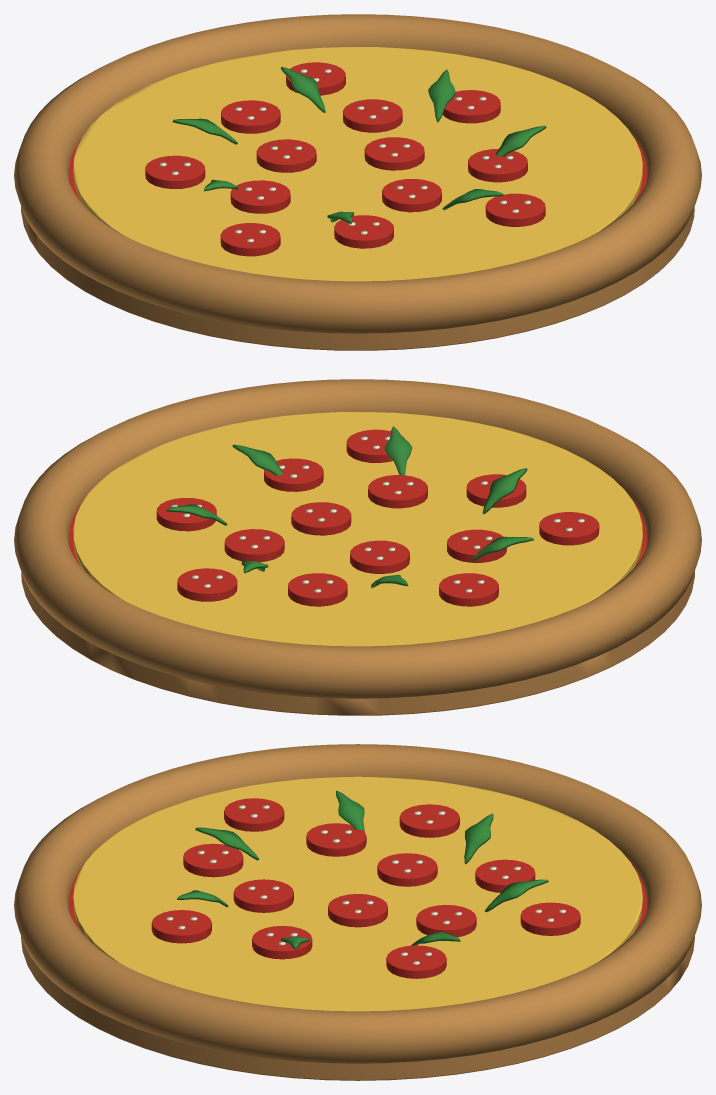
The model's file is universal-pizza.glb.
3 views of the same model, one above another, from view 1: azimuth 30°, elevation 25°; view 2: azimuth 150°, elevation 25°; view 3: azimuth 270°, elevation 25° (orthographic).
Parts seen in each view (by area): view 1: Melted cheese layer, Raised original pizza crust, Pizza bread base, Round pizza topping.010, Round pizza topping.001, Round pizza topping.009, Round pizza topping, Round pizza topping.012, Round pizza topping.003, Round pizza topping.006, Round pizza topping.002, Round pizza topping.004 (+8 smaller); view 2: Melted cheese layer, Raised original pizza crust, Pizza bread base, Round pizza topping.011, Round pizza topping, Round pizza topping.012, Round pizza topping.001, Round pizza topping.002, Round pizza topping.009, Round pizza topping.006, Round pizza topping.003, Round pizza topping.005 (+8 smaller); view 3: Melted cheese layer, Raised original pizza crust, Pizza bread base, Round pizza topping.002, Round pizza topping.008, Round pizza topping.011, Round pizza topping.012, Round pizza topping.009, Round pizza topping.001, Round pizza topping.010, Round pizza topping.007, Round pizza topping (+8 smaller).
Part boxes in pixels (bbox=[...]): Melted cheese layer: bbox=[73, 47, 642, 281]; Raised original pizza crust: bbox=[14, 14, 701, 333]; Pizza bread base: bbox=[21, 206, 694, 350]; Round pizza topping.010: bbox=[485, 193, 545, 226]; Round pizza topping.001: bbox=[256, 139, 316, 172]; Round pizza topping.009: bbox=[145, 155, 205, 188]; Round pizza topping: bbox=[364, 137, 424, 170]; Round pizza topping.012: bbox=[220, 223, 280, 256]; Round pizza topping.003: bbox=[343, 99, 402, 132]; Round pizza topping.006: bbox=[221, 100, 280, 133]; Round pizza topping.002: bbox=[382, 179, 441, 212]; Round pizza topping.004: bbox=[230, 180, 290, 213]; Melted cheese layer: bbox=[73, 412, 642, 646]; Raised original pizza crust: bbox=[14, 379, 701, 698]; Pizza bread base: bbox=[21, 571, 694, 715]; Round pizza topping.011: bbox=[177, 568, 237, 601]; Round pizza topping: bbox=[291, 502, 351, 535]; Round pizza topping.012: bbox=[539, 512, 599, 545]; Round pizza topping.001: bbox=[350, 540, 409, 573]; Round pizza topping.002: bbox=[368, 475, 427, 508]; Round pizza topping.009: bbox=[439, 573, 498, 606]; Round pizza topping.006: bbox=[288, 573, 347, 606]; Round pizza topping.003: bbox=[224, 529, 284, 562]; Round pizza topping.005: bbox=[264, 458, 323, 491]; Melted cheese layer: bbox=[73, 776, 642, 1011]; Raised original pizza crust: bbox=[14, 744, 701, 1063]; Pizza bread base: bbox=[21, 936, 694, 1080]; Round pizza topping.002: bbox=[233, 879, 293, 912]; Round pizza topping.008: bbox=[386, 945, 446, 978]; Round pizza topping.011: bbox=[520, 902, 580, 935]; Round pizza topping.012: bbox=[224, 798, 284, 831]; Round pizza topping.009: bbox=[399, 804, 459, 837]; Round pizza topping.001: bbox=[377, 853, 437, 886]; Round pizza topping.010: bbox=[151, 910, 211, 943]; Round pizza topping.007: bbox=[183, 843, 243, 877]; Round pizza topping: bbox=[328, 894, 387, 927].
Bounding box in the file's own units: 0.297 × 0.0326 × 0.297.
Materials: 5 (5 with a texture image).
